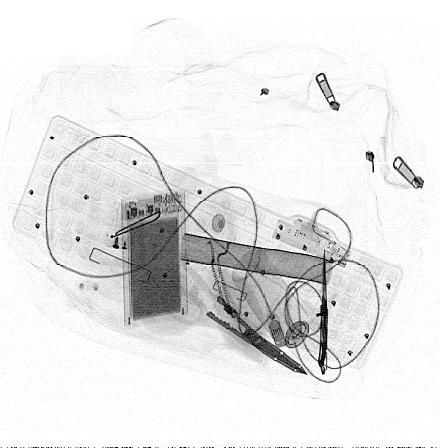Knife: (318, 247, 328, 368)
Powerbank: (123, 187, 190, 328)
Scissors: (160, 248, 311, 377)
Sprayer: (233, 249, 320, 363)
